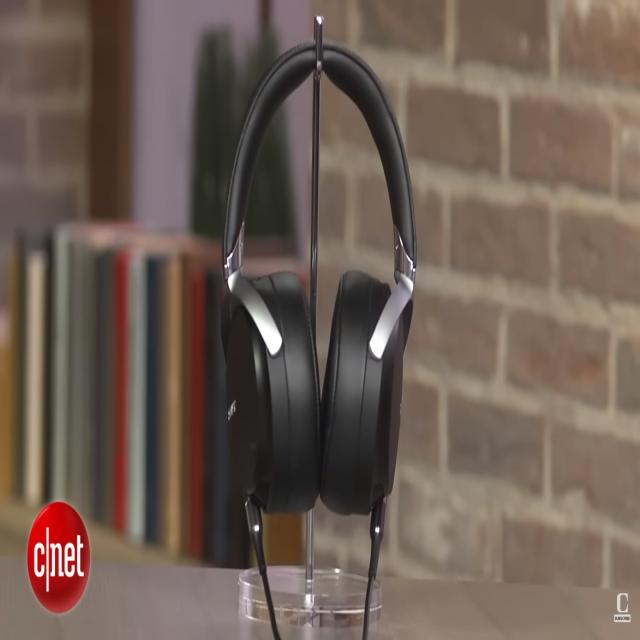Headphone: (218, 44, 418, 518)
